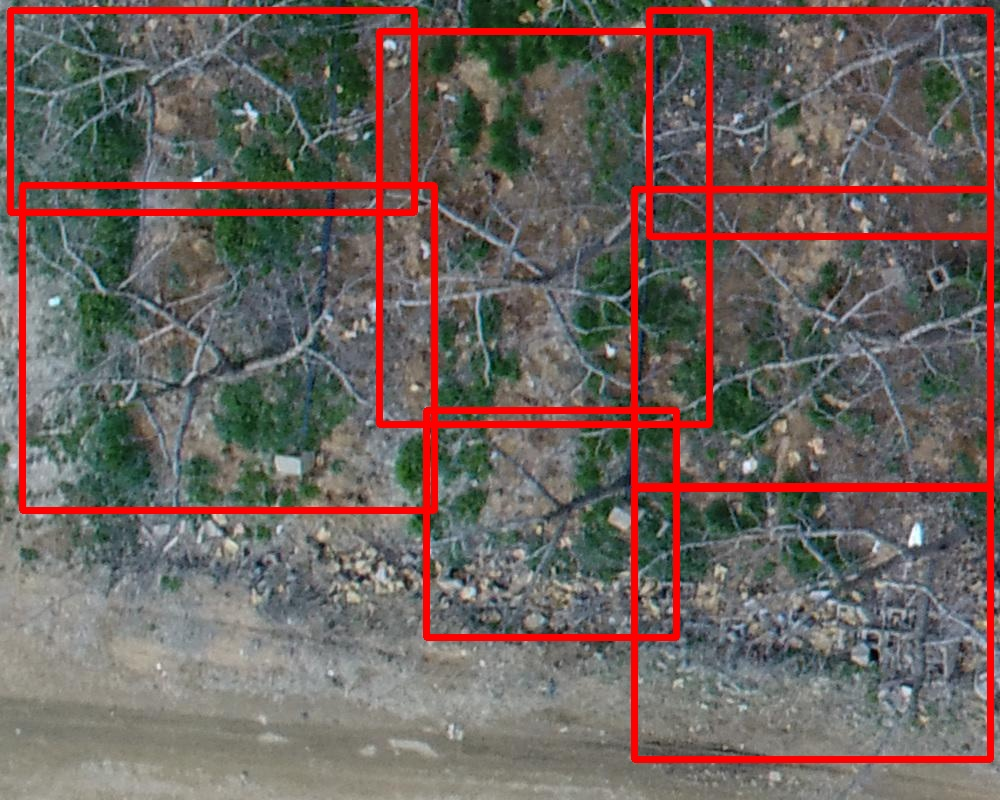apple: (22, 185, 434, 510), (379, 31, 709, 424), (634, 189, 990, 486), (634, 488, 990, 759), (10, 10, 414, 212), (649, 10, 990, 236), (426, 410, 676, 637)
